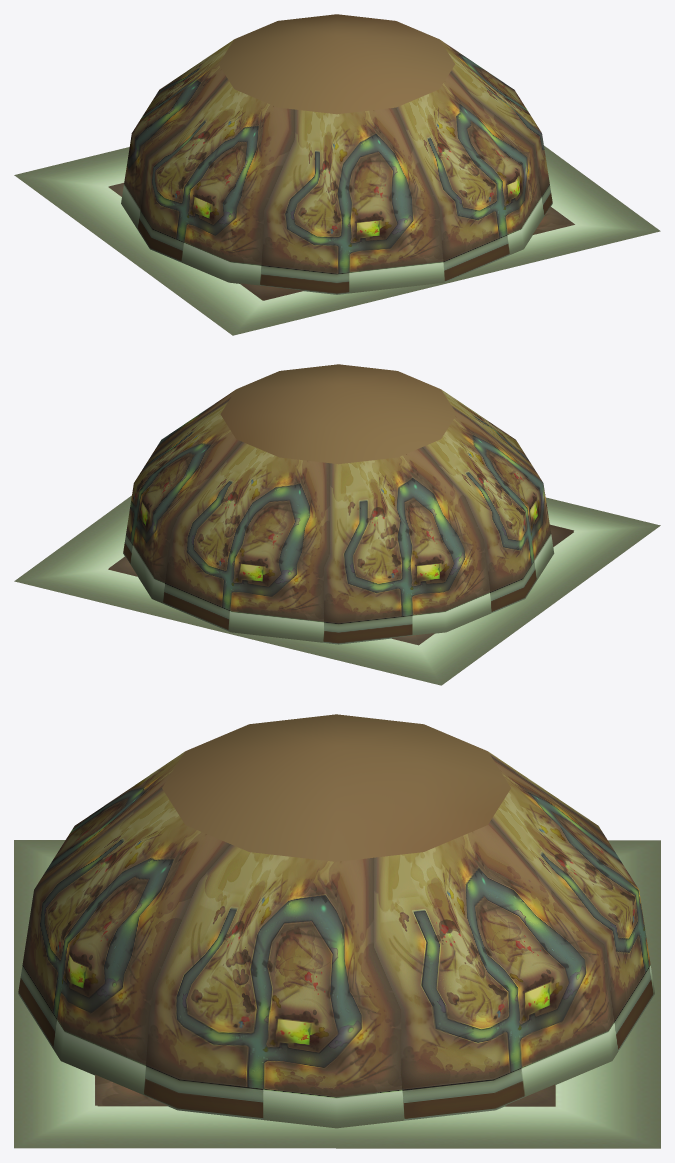
File: Combined_Mesh_root_scene__8_c5249964__junkyard_diffuse_07_d_1c107588_c1f257.obj
3 renders of one model, top to bottom at view 1: azimuth 30°, elevation 25°; view 2: azimuth 150°, elevation 25°; view 3: azimuth 270°, elevation 25°, orthographic. The views are drawn at different scales.
Bounding box in the file's own units: 109 × 41.29 × 96.33.
Materials: 294 (294 with a texture image).
